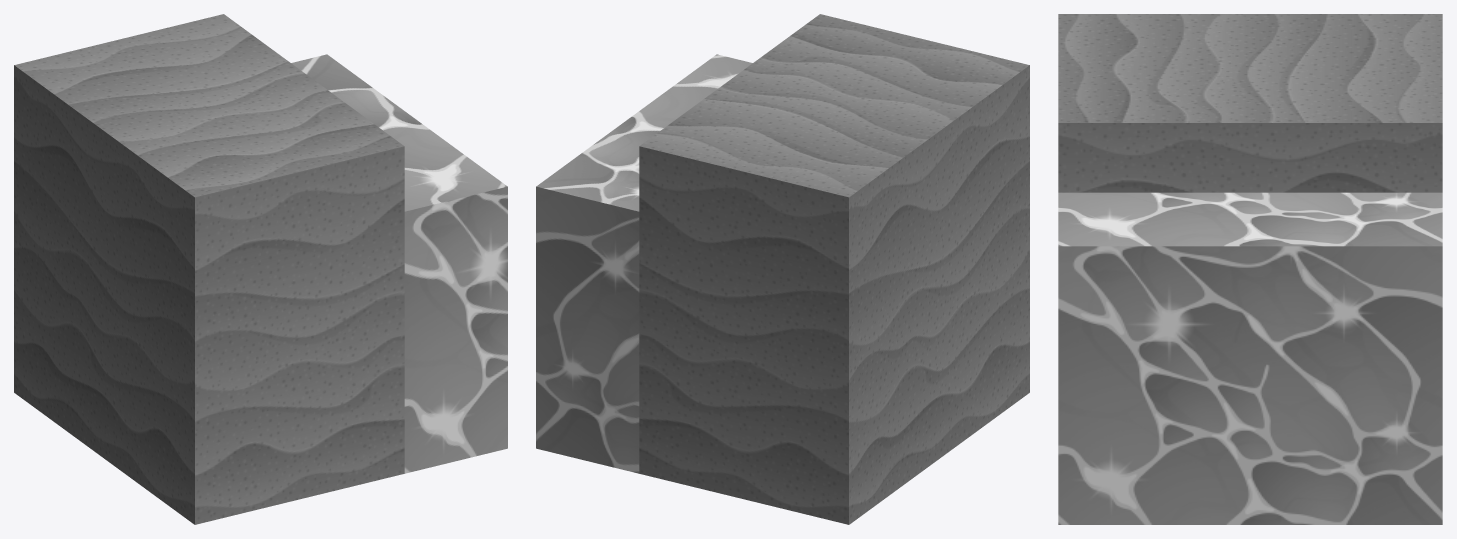
Rendered from SandWaterEdge.fbx.
3 renders of one model, left to right at view 1: azimuth 30°, elevation 25°; view 2: azimuth 150°, elevation 25°; view 3: azimuth 270°, elevation 25°, orthographic. The views are drawn at different scales.
Parts seen in each view (by area): view 1: Cube.033; view 2: Cube.033; view 3: Cube.033.
Part boxes in pixels (x1,y1,x2,y2): Cube.033: (14,14,507,524); Cube.033: (536,14,1029,524); Cube.033: (1058,14,1442,524).
Size of the model in its own units: 100 by 100 by 100.
